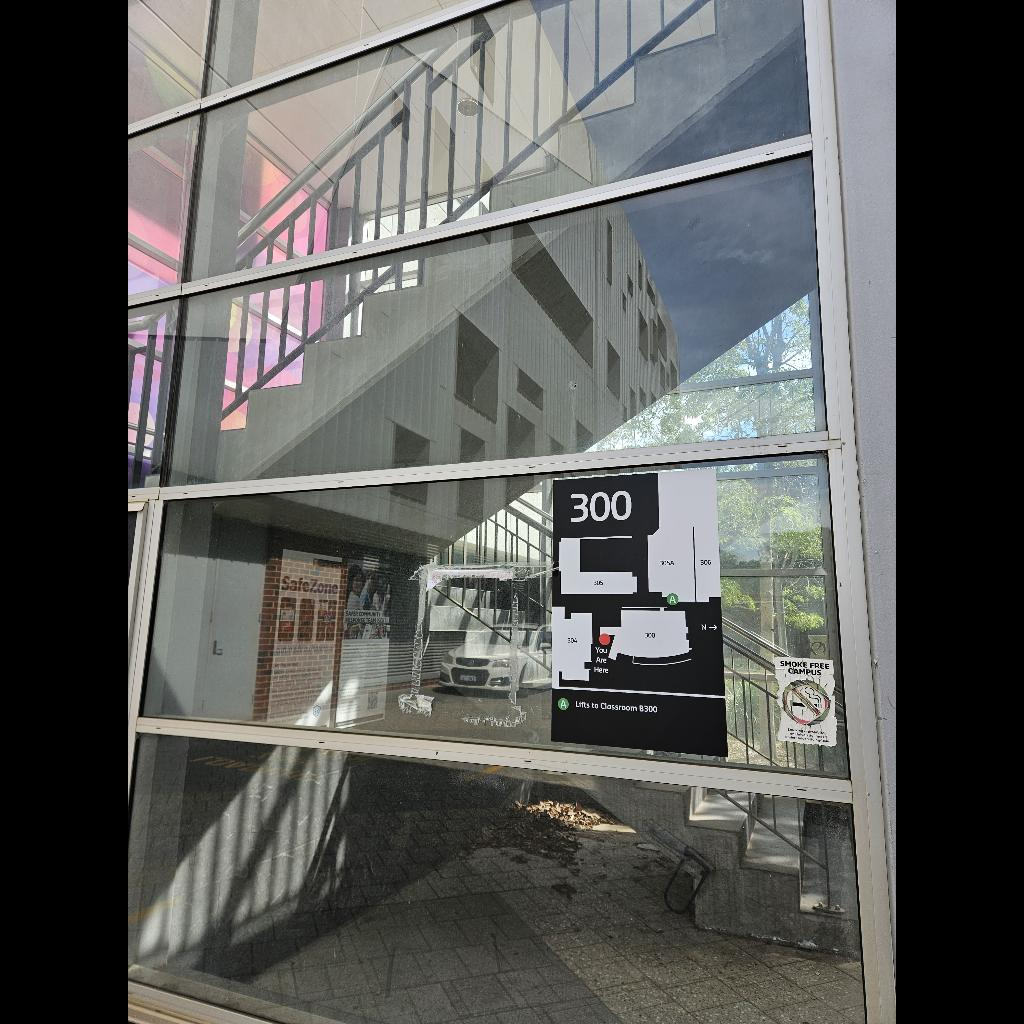BuildingCodes: (568, 488, 632, 526)
